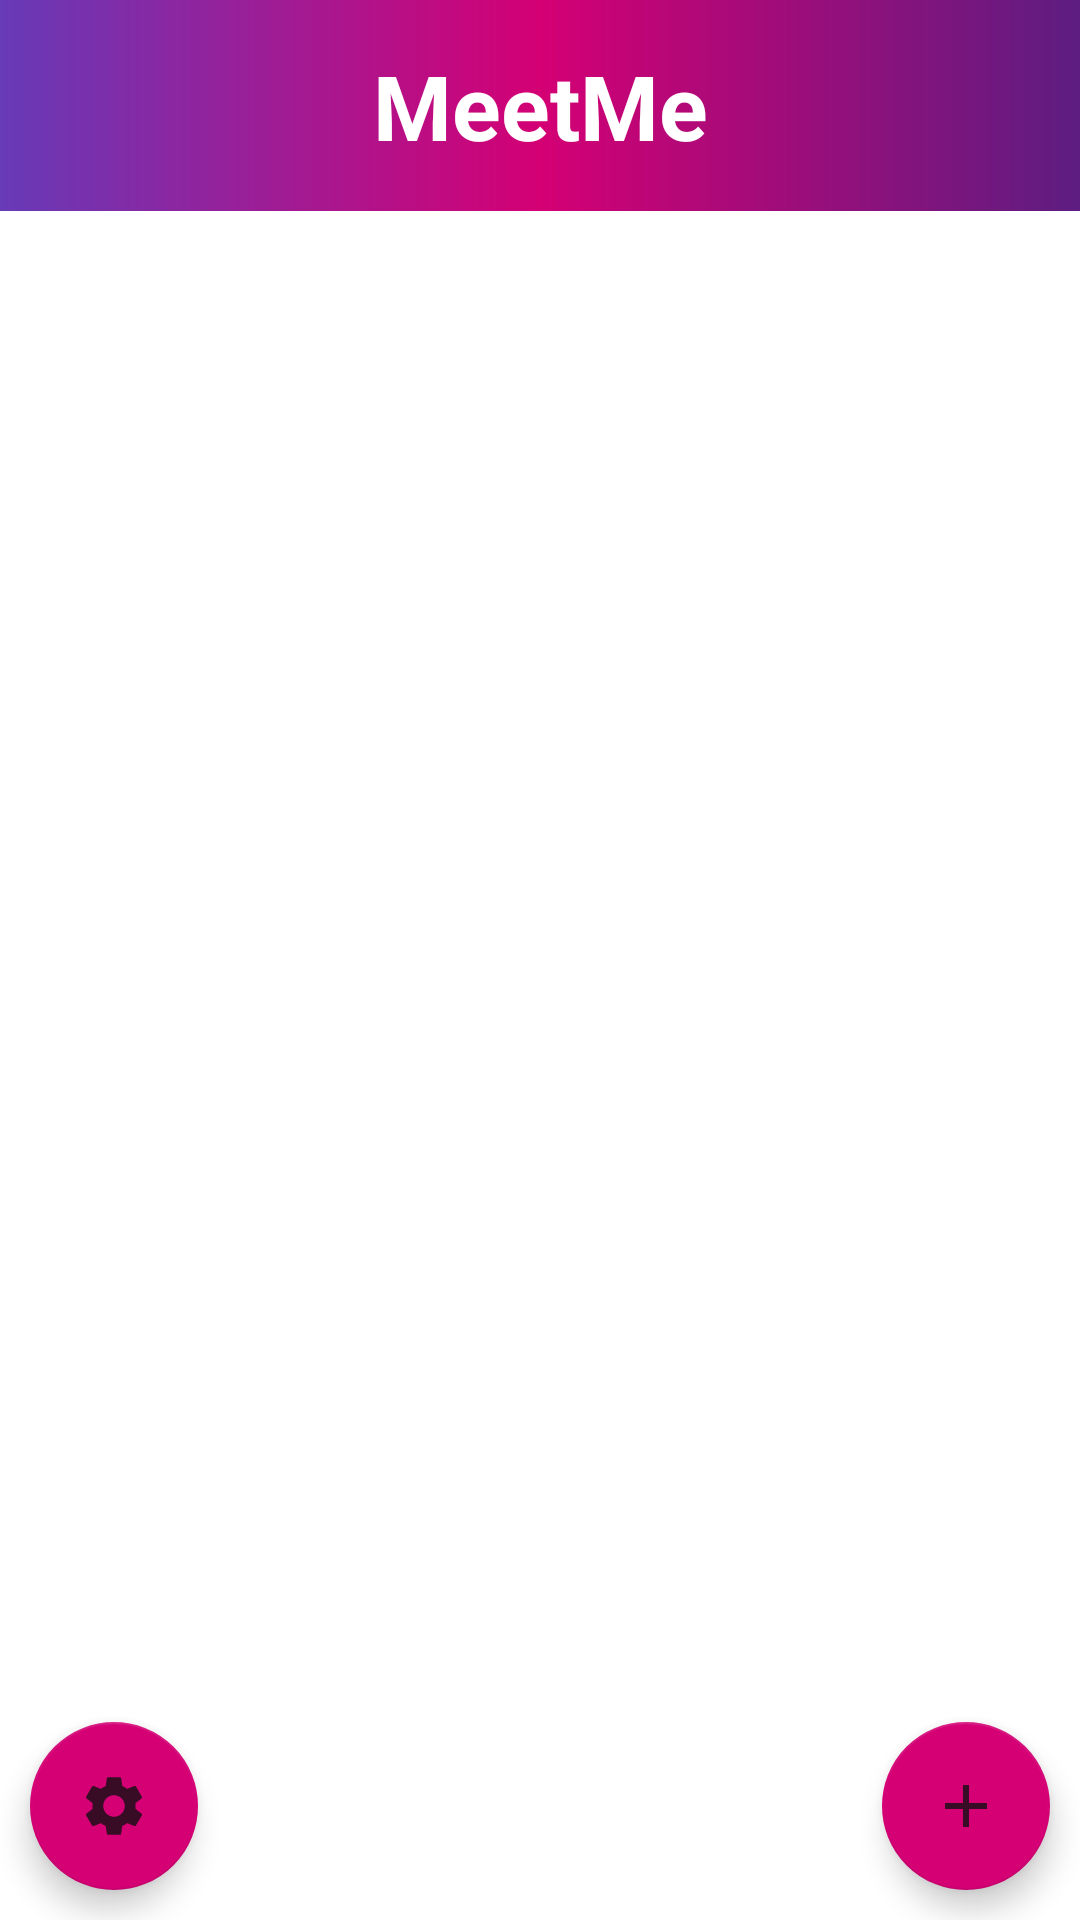

Screen size 1080x1920. Icon name, then its center in pixels as (x=x, y=y):
add New Chat: (x=966, y=1806)
Settings: (x=114, y=1806)
